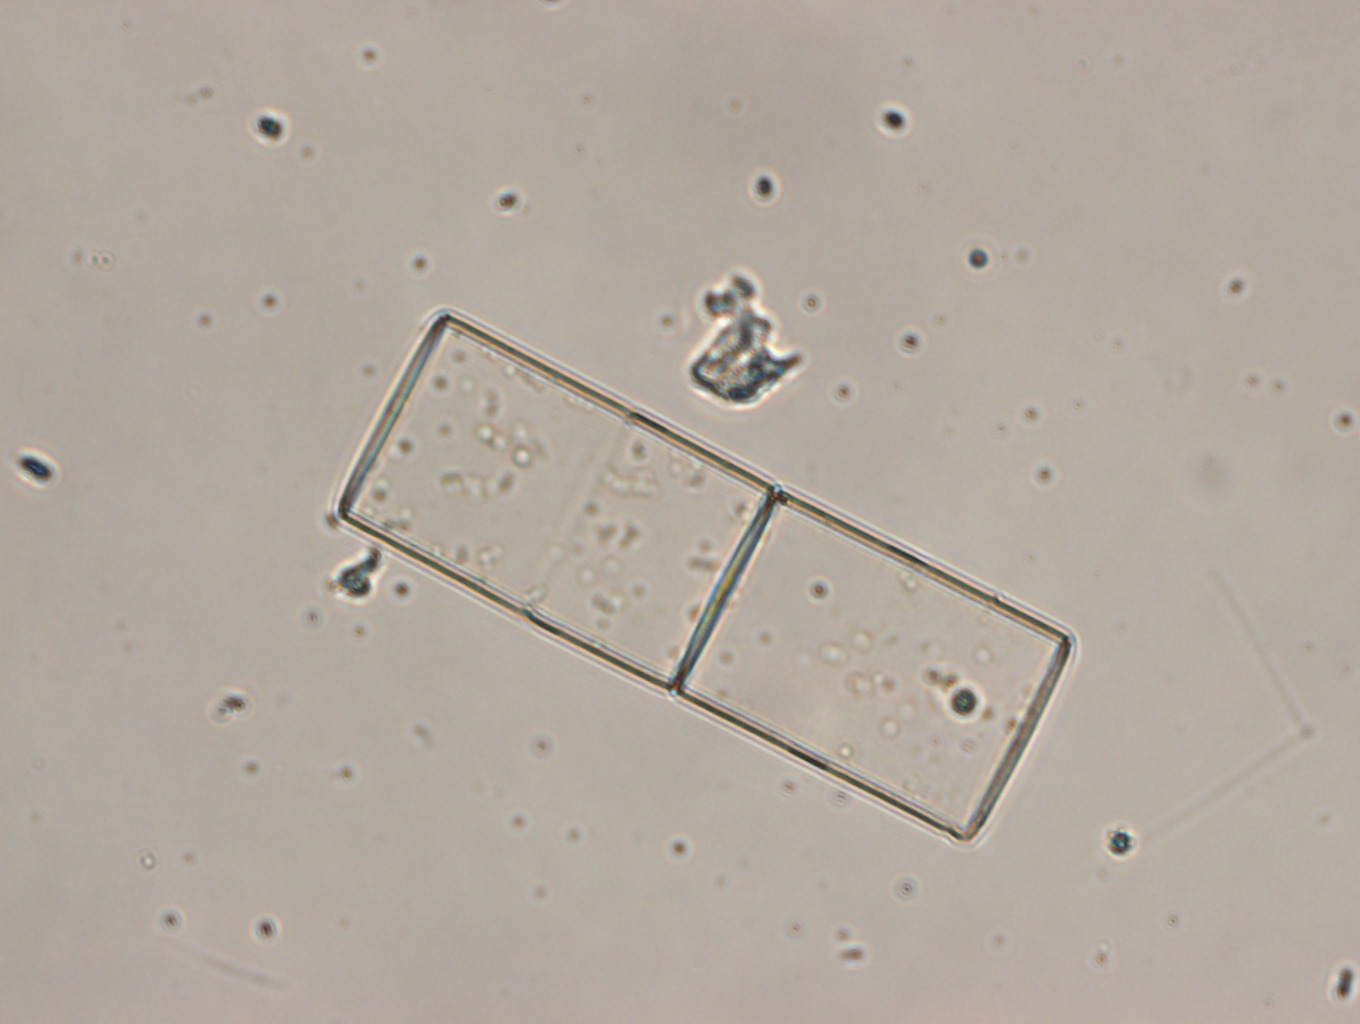guinardia flaccida: (334, 307, 1077, 844)
